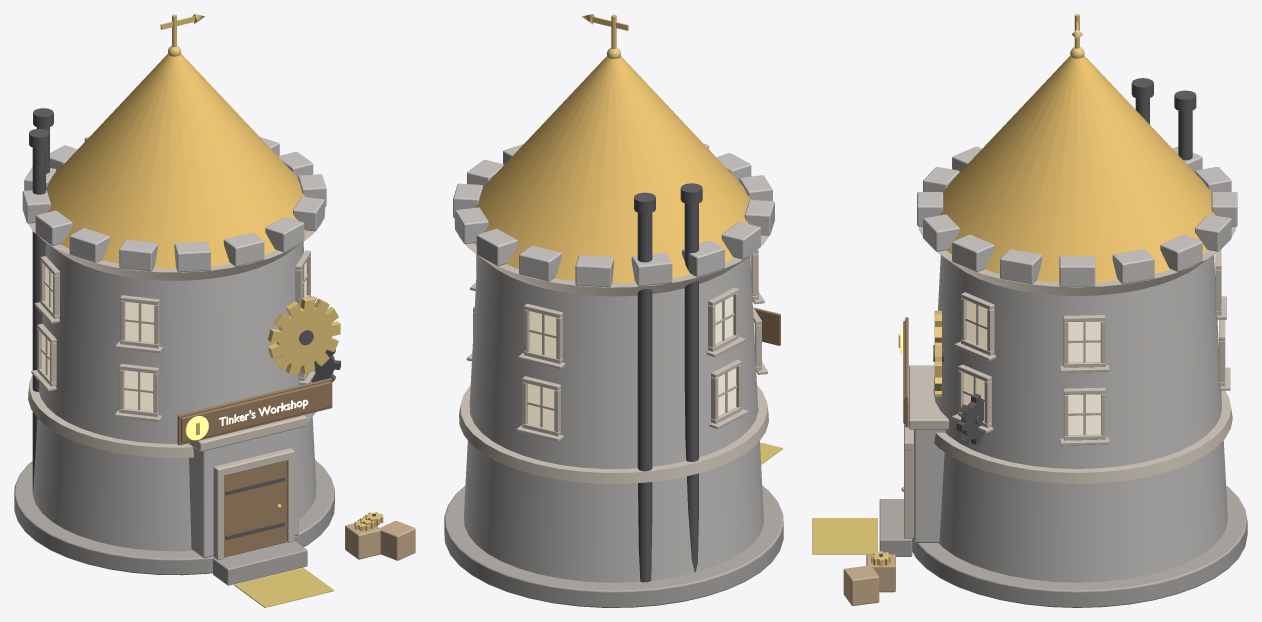
File: tinker_workshop.fbx
The picture shows the model from 3 angles, left to right: view 1: azimuth 30°, elevation 25°; view 2: azimuth 150°, elevation 25°; view 3: azimuth 270°, elevation 25°; orthographic projection. The views are drawn at different scales.
Parts seen in each view (by area): view 1: tinker_workshop; view 2: tinker_workshop; view 3: tinker_workshop.
Part boxes in pixels (x1,y1,x2,y2): tinker_workshop: (14, 14, 415, 607); tinker_workshop: (444, 14, 783, 607); tinker_workshop: (812, 14, 1247, 607).
Bounding box in the file's own units: 10.4 × 17.6 × 13.3.
